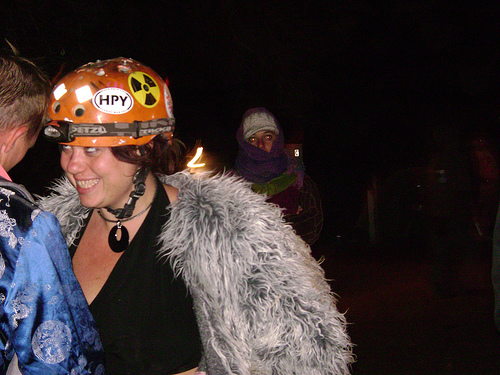helmet: (37, 61, 185, 149)
